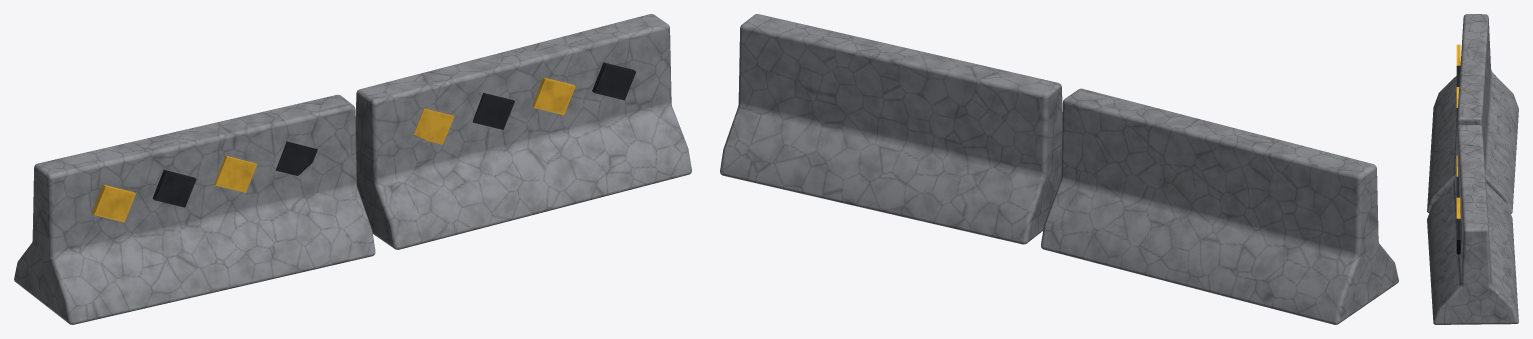
The model's file is barrier.glb.
3 renders of one model, left to right at view 1: azimuth 30°, elevation 25°; view 2: azimuth 150°, elevation 25°; view 3: azimuth 270°, elevation 25°, orthographic. The views are drawn at different scales.
Parts seen in each view (by area): view 1: Prop_barrier; view 2: Prop_barrier; view 3: Prop_barrier.
Part boxes in pixels (left/top/right/bottom): Prop_barrier: left=14, top=14, right=691, bottom=324; Prop_barrier: left=720, top=14, right=1398, bottom=324; Prop_barrier: left=1427, top=14, right=1518, bottom=324.
Size of the model in its own units: 4.12 by 0.85 by 0.7366.
Materials: 3 (3 with a texture image).
